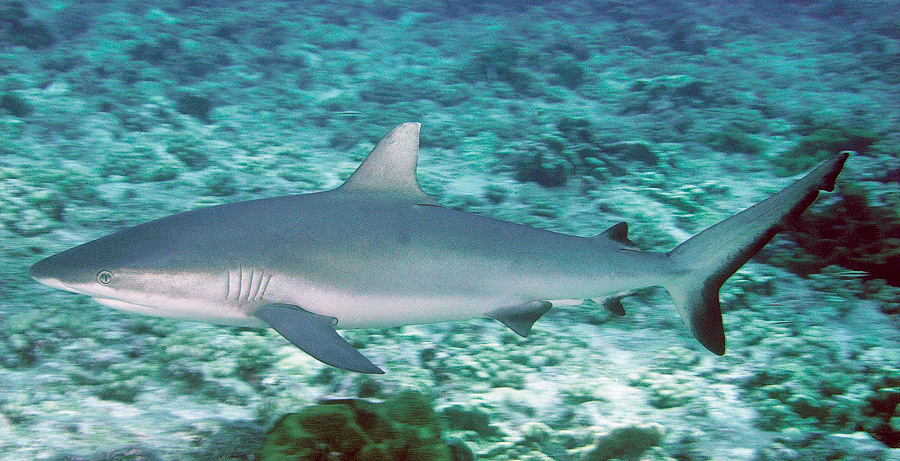Carcharhinus_amblyrhynchos: (26, 114, 856, 378)
